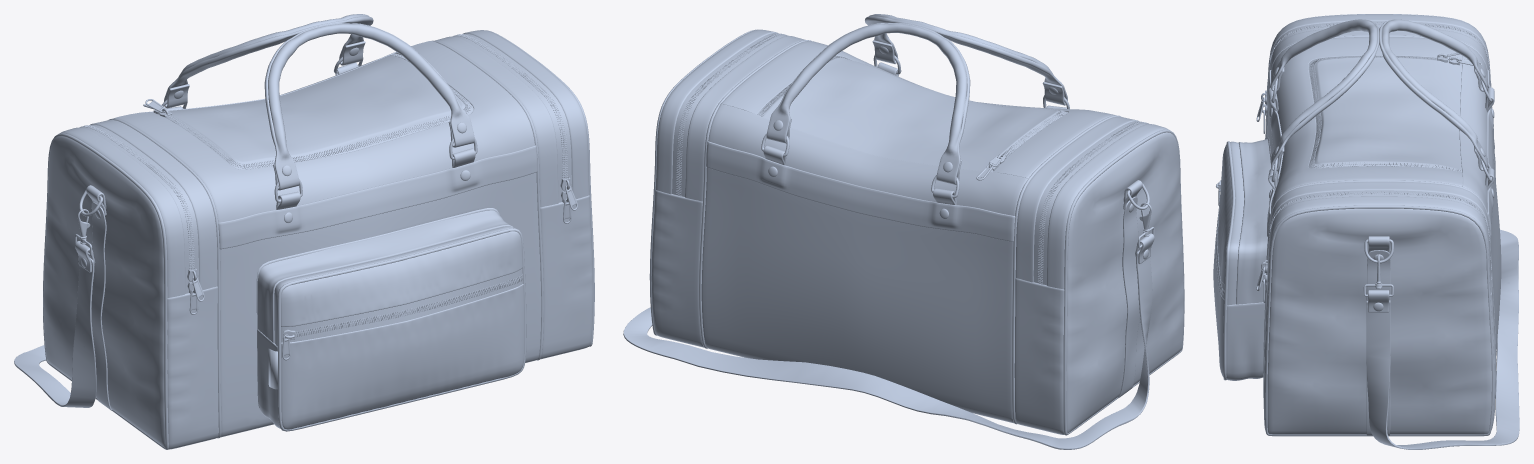
Rendered from Bag.fbx.
3 views of the same model, side by side, from view 1: azimuth 30°, elevation 25°; view 2: azimuth 150°, elevation 25°; view 3: azimuth 270°, elevation 25° (orthographic). The views are drawn at different scales.
Visible parts, largest first — view 1: fggft:Bag; view 2: fggft:Bag; view 3: fggft:Bag.
Part boxes in pixels (bbox=[...]): fggft:Bag: bbox=[14, 14, 594, 449]; fggft:Bag: bbox=[623, 14, 1184, 449]; fggft:Bag: bbox=[1213, 14, 1519, 449].
Size of the model in its own units: 53.83 by 35.34 by 31.49.
